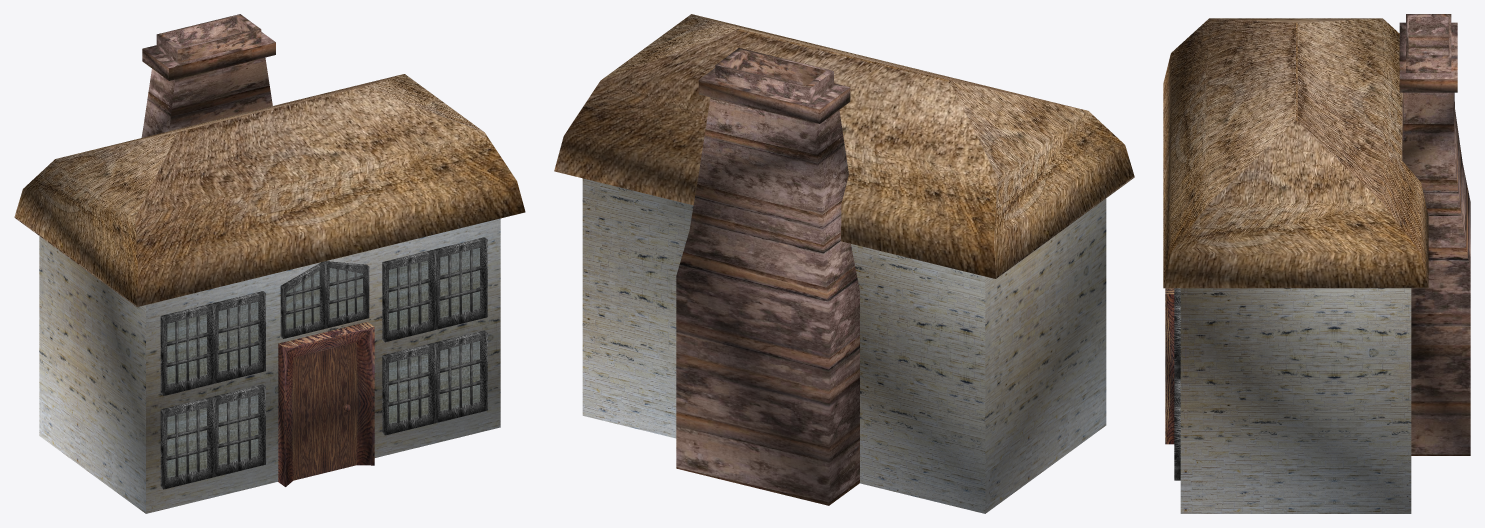
File: bookstore.fbx
3 views of the same model, side by side, from view 1: azimuth 30°, elevation 25°; view 2: azimuth 150°, elevation 25°; view 3: azimuth 270°, elevation 25° (orthographic). The views are drawn at different scales.
Parts seen in each view (by area): view 1: Mesh; view 2: Mesh; view 3: Mesh.
Part boxes in pixels (bbox=[...]): Mesh: bbox=[14, 14, 525, 513]; Mesh: bbox=[554, 14, 1134, 513]; Mesh: bbox=[1163, 14, 1470, 513].
Size of the model in its own units: 29.05 by 25.38 by 18.34.
